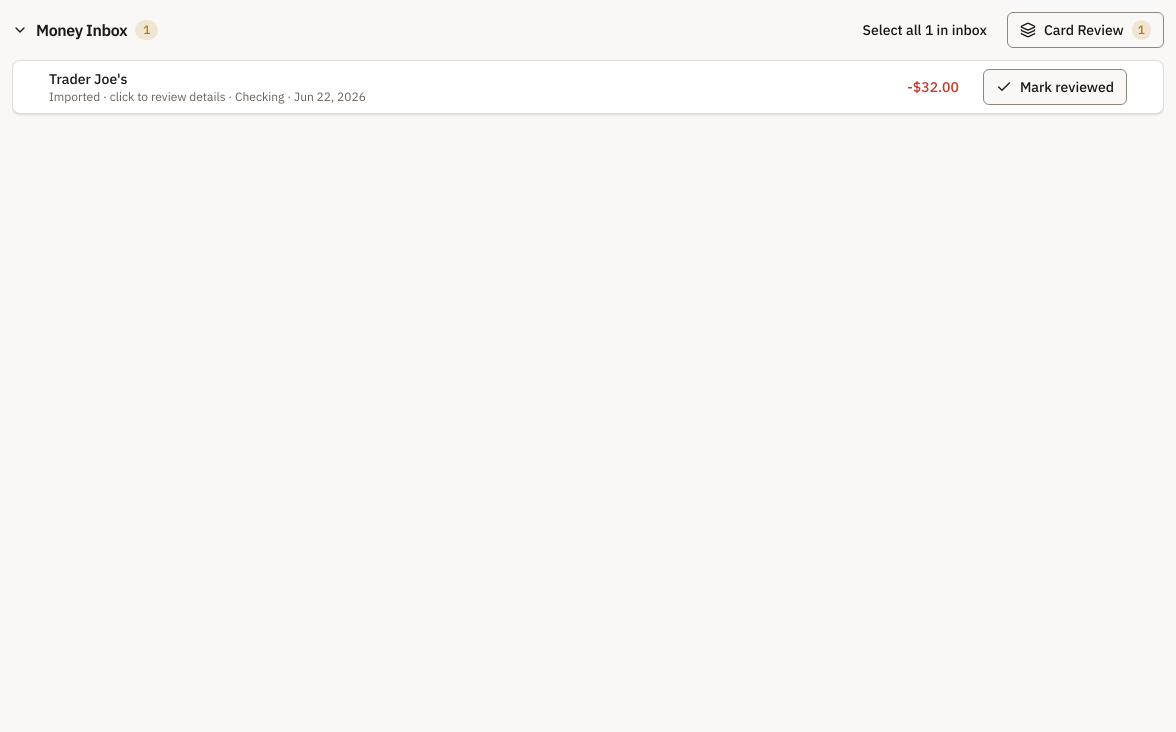
Test: Money Inbox surface (ADR 0049 §3: controlled selection + extracted bulk bar) › renders the bulk bar over the surface's own selection
Click the button "Select all 1 in inbox": (925, 30) [851,12,999,48]
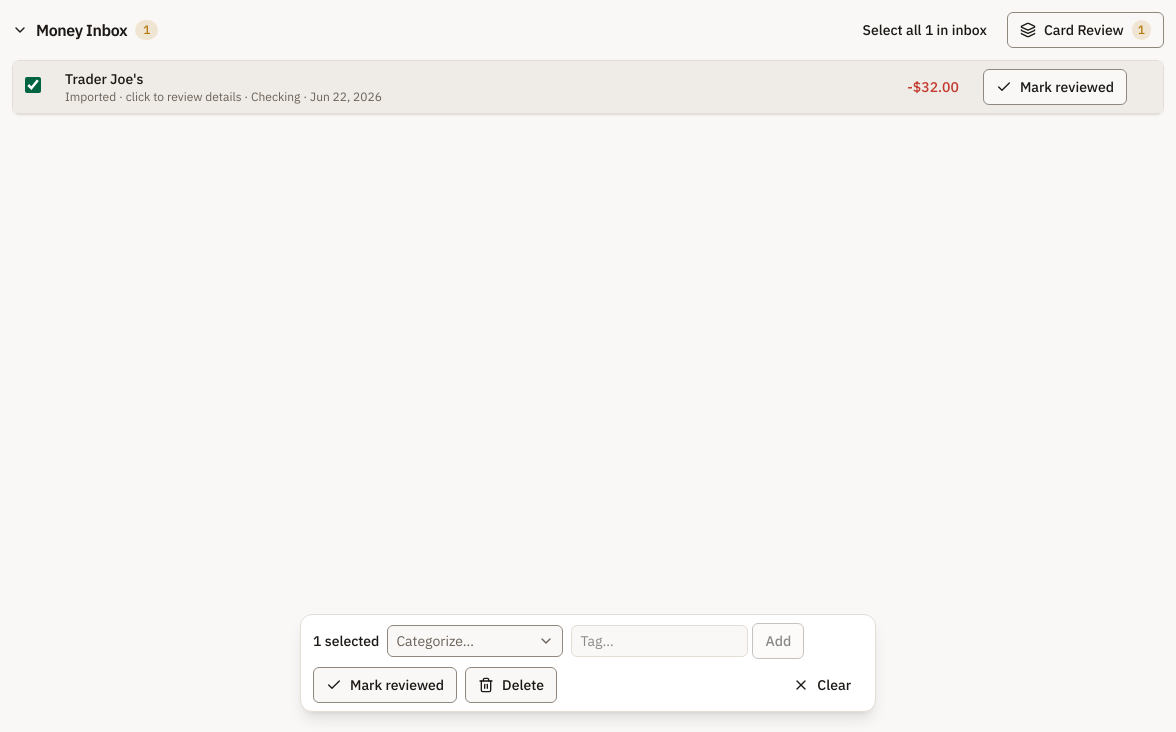
Expected: the text "1 selected" is shown, [313,631,379,651]
